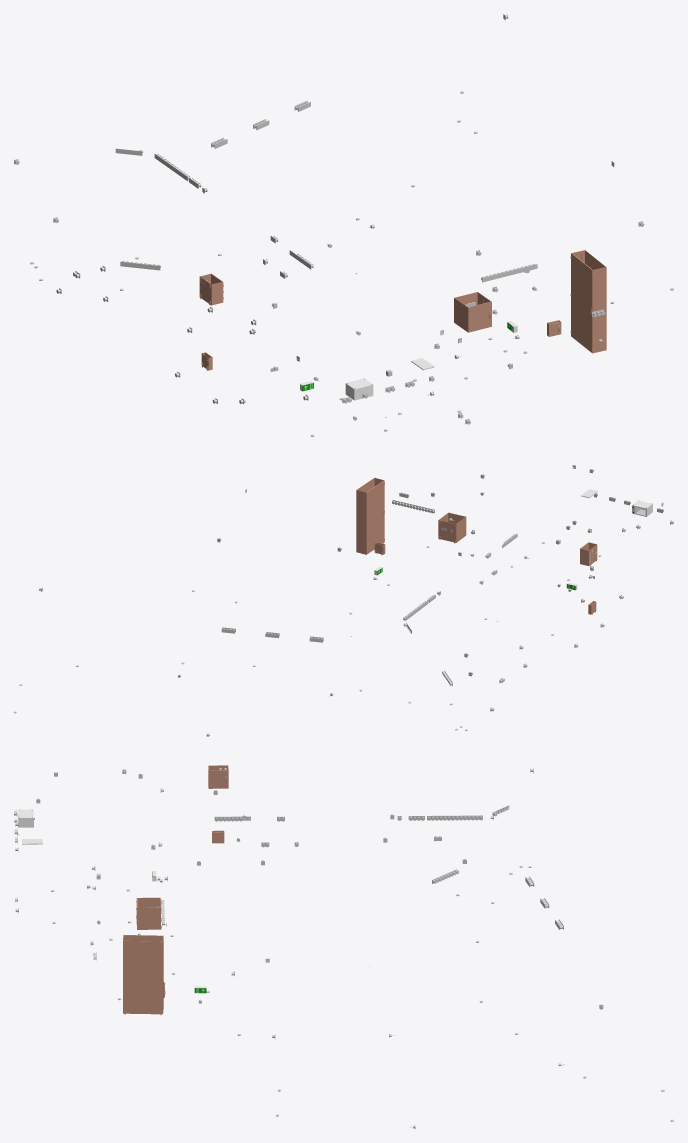
The model's file is Step 5 Alexa-Elektro.fbx.
The picture shows the model from 3 angles, top to bottom: view 1: azimuth 30°, elevation 25°; view 2: azimuth 150°, elevation 25°; view 3: azimuth 270°, elevation 25°; orthographic projection. The views are drawn at different scales.
Visible parts, largest first — view 1: Elektroschrank, Anschlussbuchse 1-Fach, Anschlussbuchse 2-Fach; view 2: Elektroschrank, Anschlussbuchse 1-Fach, Anschlussbuchse 2-Fach; view 3: Elektroschrank, Anschlussbuchse 1-Fach, Anschlussbuchse 2-Fach.
Boxes of the visible parts, bbox=[...] form: Elektroschrank: bbox=[199, 250, 606, 370]; Anschlussbuchse 1-Fach: bbox=[14, 14, 644, 424]; Anschlussbuchse 2-Fach: bbox=[73, 100, 529, 282]; Elektroschrank: bbox=[356, 477, 597, 614]; Anschlussbuchse 1-Fach: bbox=[39, 465, 673, 711]; Anschlussbuchse 2-Fach: bbox=[221, 501, 517, 683]; Elektroschrank: bbox=[123, 765, 228, 1015]; Anschlussbuchse 1-Fach: bbox=[14, 767, 603, 1038]; Anschlussbuchse 2-Fach: bbox=[161, 816, 563, 929].
Size of the model in its own units: 1643 by 488 by 1340.
